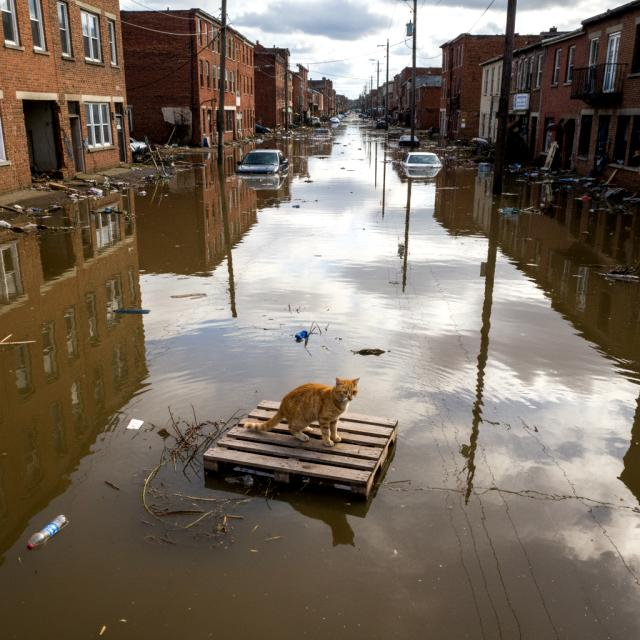cat: (245, 368, 373, 454)
